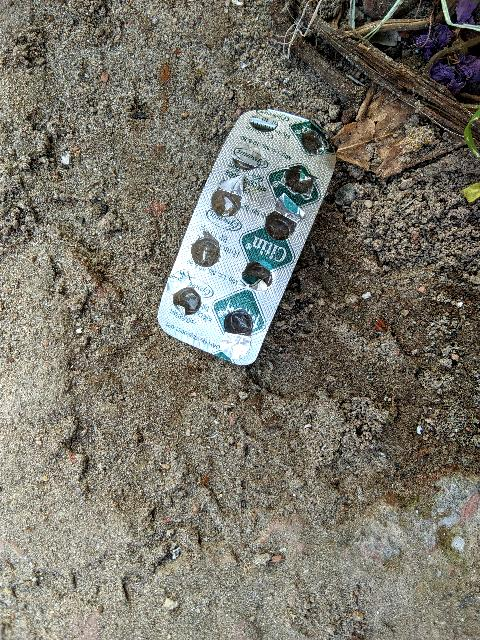medicine: (137, 92, 360, 371)
